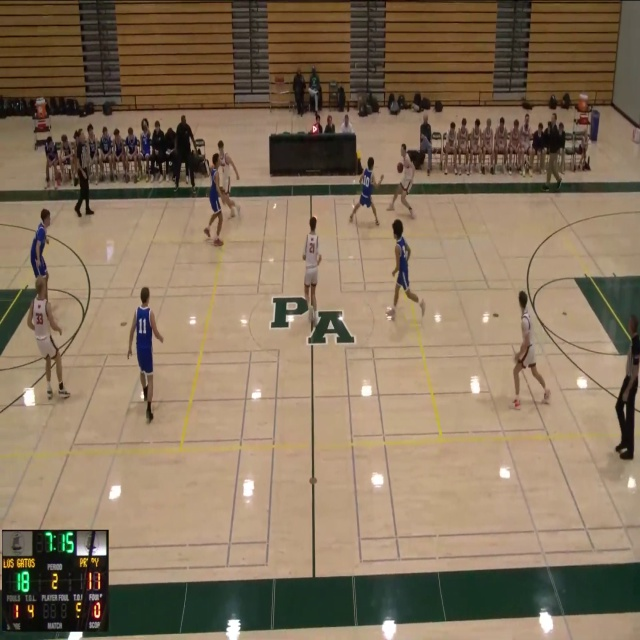Basketball: (397, 162, 403, 173)
